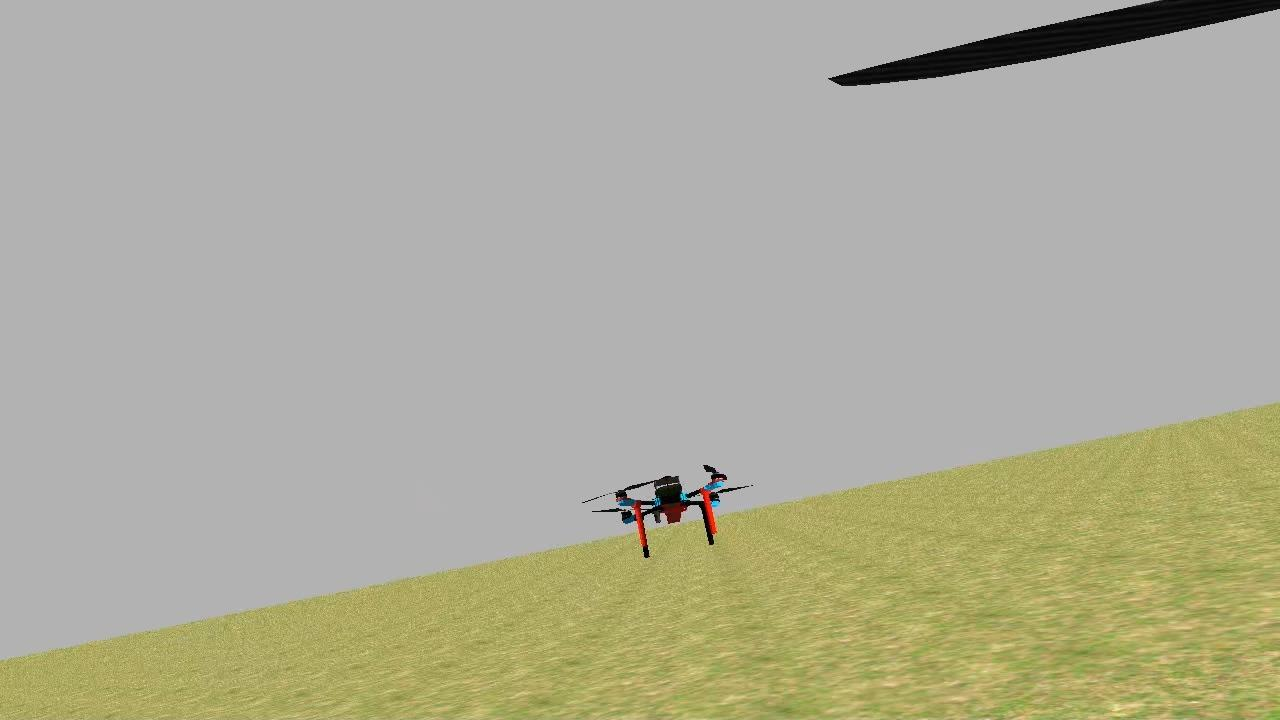UAV: (596, 462, 739, 567)
